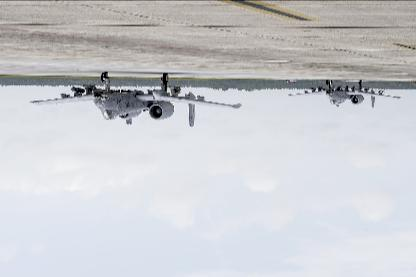A10: (29, 70, 241, 126), (288, 80, 402, 108)
